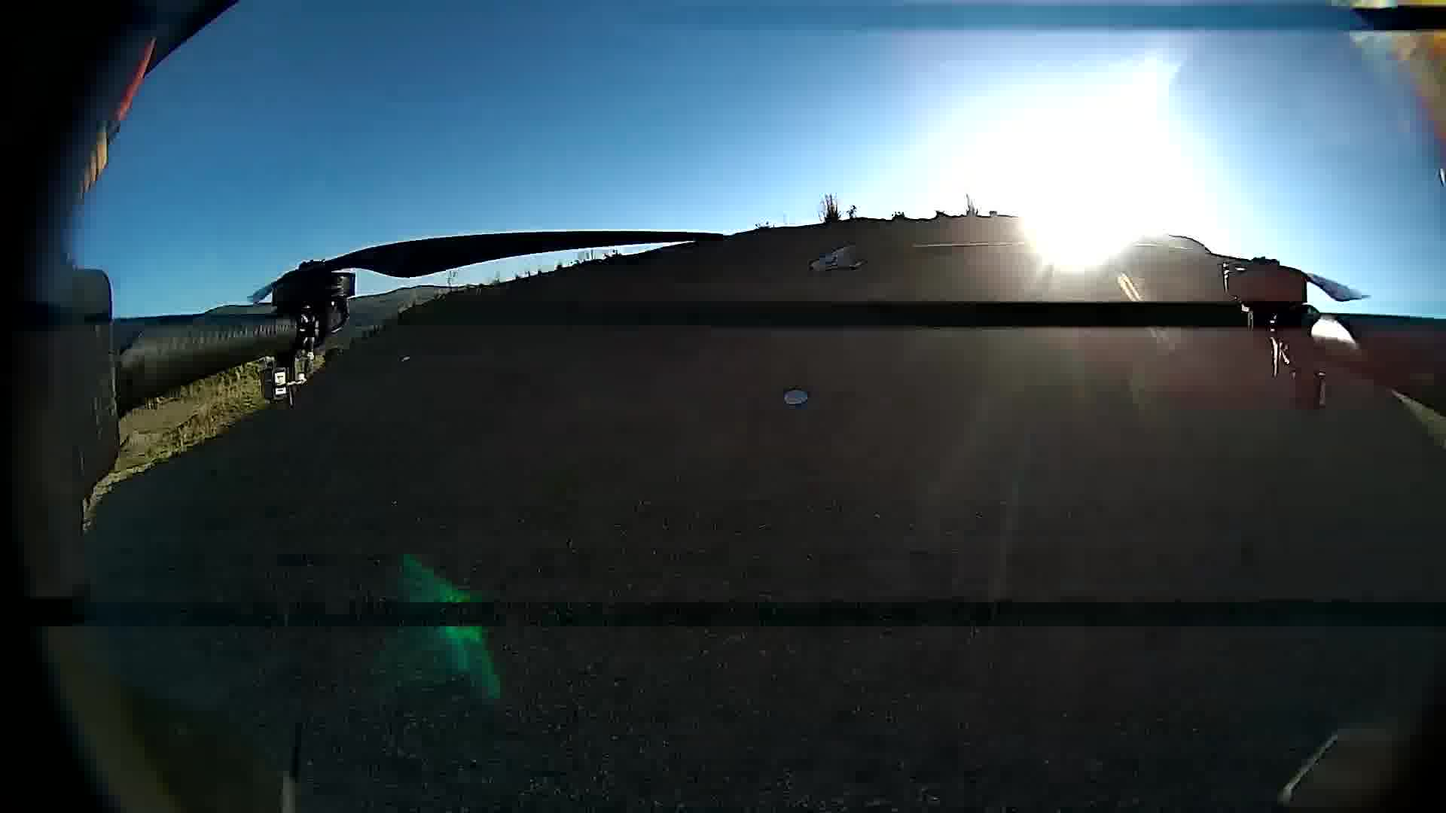Target: (784, 390, 809, 404)
